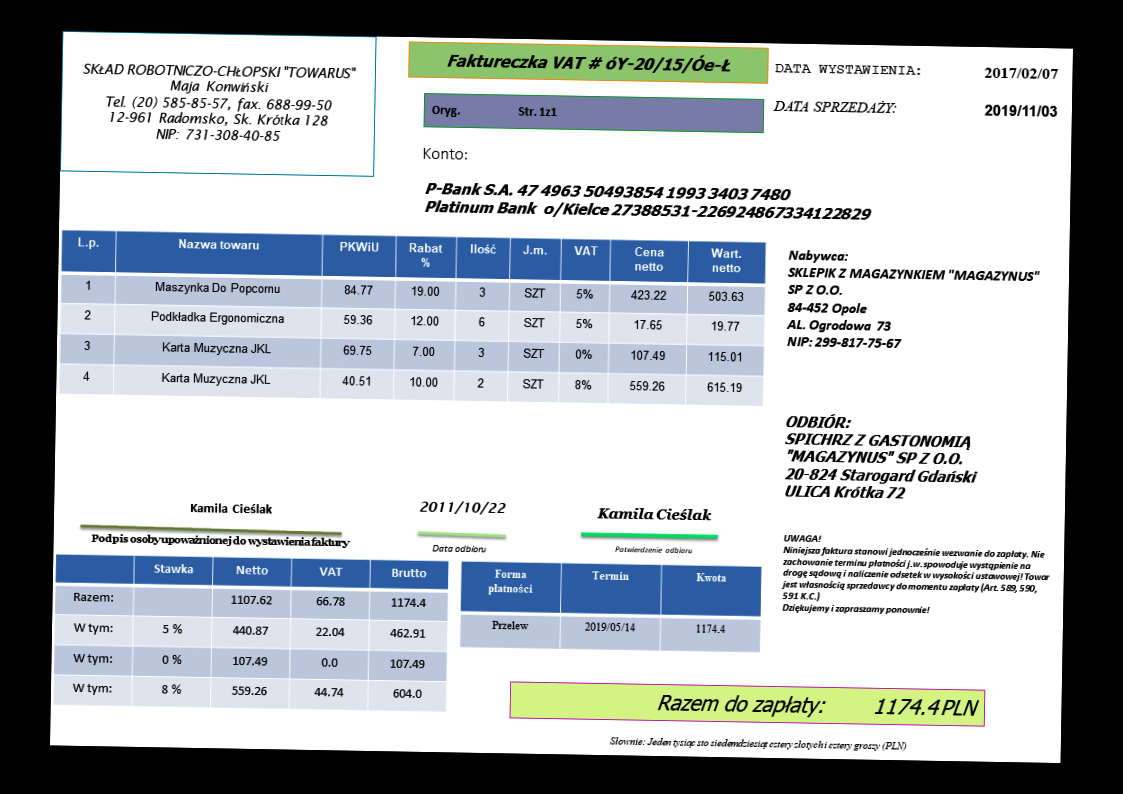Table: (58, 228, 766, 407), (52, 553, 451, 712), (459, 559, 762, 654)
TextBox: (784, 246, 1042, 355), (780, 532, 1054, 620), (79, 59, 359, 145), (422, 179, 873, 223), (783, 413, 982, 503), (655, 688, 982, 721), (444, 49, 734, 78), (608, 732, 909, 754), (88, 529, 352, 552), (771, 60, 923, 79), (429, 101, 558, 122), (772, 96, 899, 116), (596, 503, 715, 524), (418, 497, 508, 517), (982, 62, 1060, 83), (982, 100, 1059, 120), (187, 500, 274, 517), (612, 543, 694, 556), (419, 145, 469, 164), (430, 542, 486, 556)
